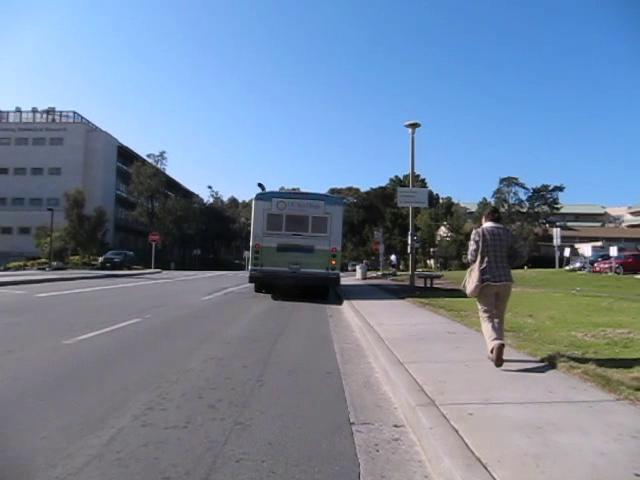stop: (147, 230, 160, 244)
